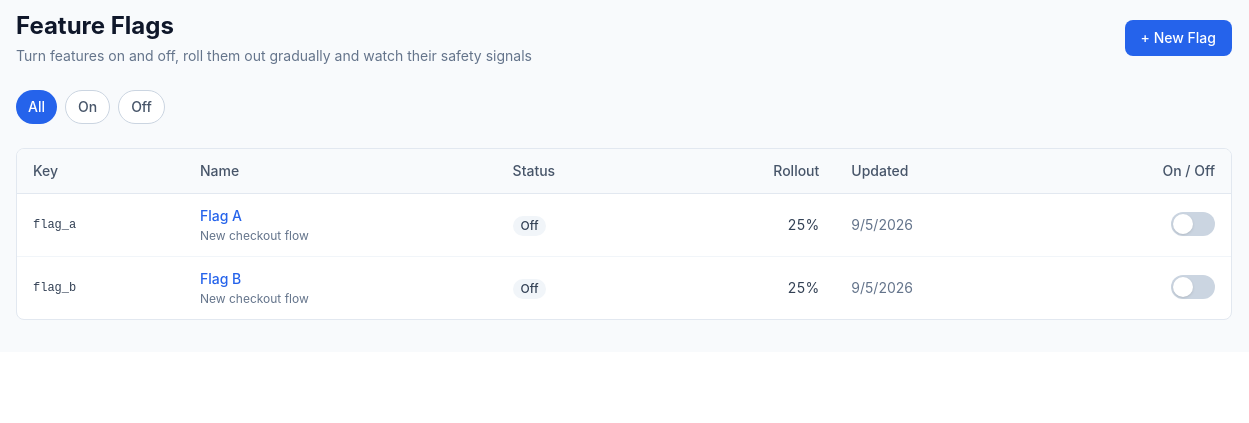
Test case: FeatureFlagsPage › shows a message per failing row when two toggles fail
Expected: the element with test id "flags-table" is shown, x1=16 y1=148 x2=1232 y2=320
Click the switch with test id "flag-toggle-flag_a": coordinates (1193, 224) x1=1171 y1=212 x2=1215 y2=236
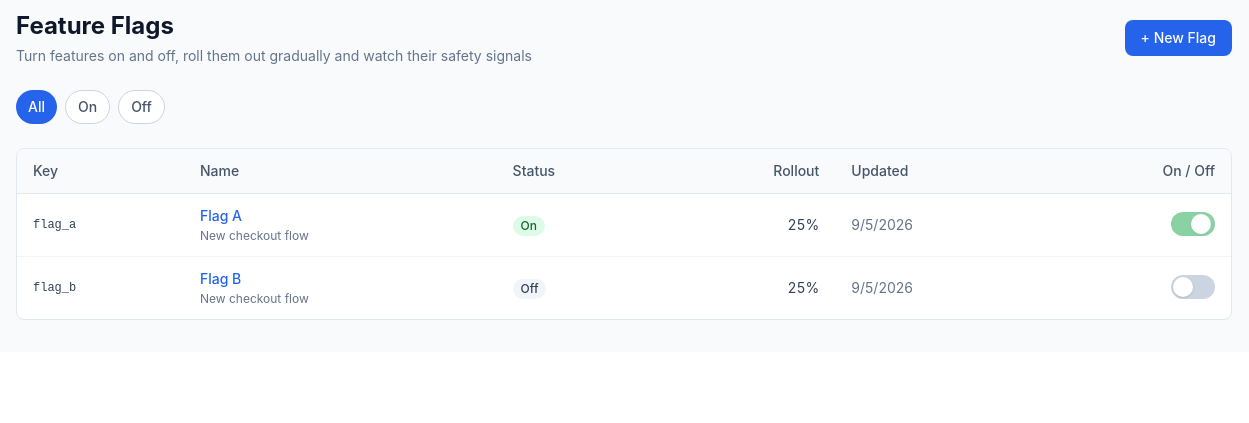
Click the switch with test id "flag-toggle-flag_b": coordinates (1193, 286) x1=1171 y1=274 x2=1215 y2=298
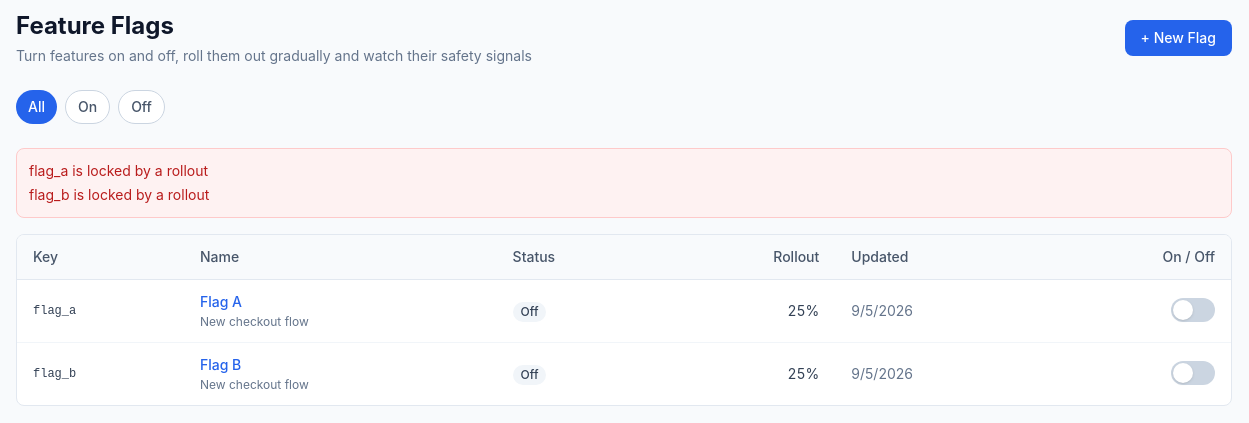
Now the message with test id "flag-toggle-error" shows "flag_a is locked by a rollout", box x1=29 y1=162 x2=208 y2=179
Now the message with test id "flag-toggle-error" shows "flag_b is locked by a rollout", box x1=29 y1=186 x2=209 y2=203
